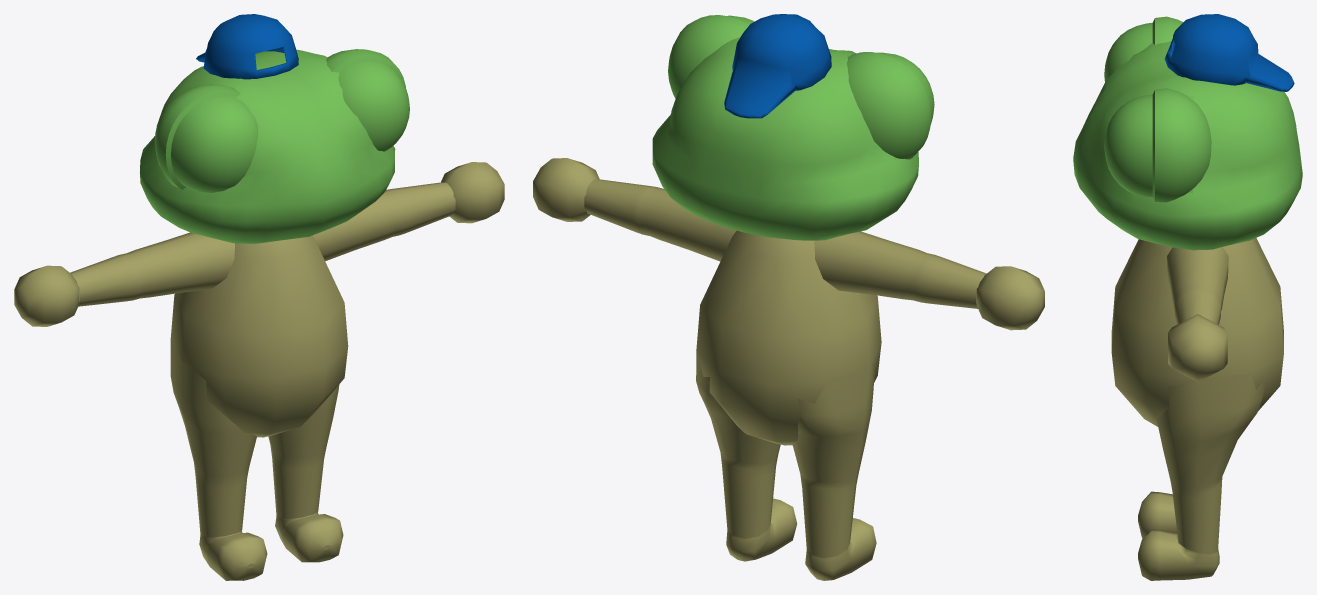
Rendered from Luther_FBX.fbx.
The picture shows the model from 3 angles, left to right: view 1: azimuth 30°, elevation 25°; view 2: azimuth 150°, elevation 25°; view 3: azimuth 270°, elevation 25°; orthographic projection. The views are drawn at different scales.
Parts seen in each view (by area): view 1: polySurface3, body_geo, r_leg_geo, l_leg_geo, r_arm_geo, l_arm_geo, pCube3, r_hand_geo, l_hand_geo; view 2: polySurface3, body_geo, r_leg_geo, r_arm_geo, l_leg_geo, pCube3, l_arm_geo, r_hand_geo, l_hand_geo; view 3: polySurface3, body_geo, l_leg_geo, pCube3, l_arm_geo, l_hand_geo, r_leg_geo.
Part boxes in pixels (<box>): polySurface3: <box>139,49,409,244</box>; body_geo: <box>170,235,348,437</box>; r_leg_geo: <box>170,339,267,580</box>; l_leg_geo: <box>268,385,343,562</box>; r_arm_geo: <box>70,232,234,306</box>; l_arm_geo: <box>312,182,455,261</box>; pCube3: <box>196,14,298,79</box>; r_hand_geo: <box>14,265,79,326</box>; l_hand_geo: <box>441,162,504,223</box>; polySurface3: <box>652,15,934,240</box>; body_geo: <box>696,230,881,445</box>; r_leg_geo: <box>792,364,876,580</box>; r_arm_geo: <box>814,231,986,308</box>; l_leg_geo: <box>696,351,797,561</box>; pCube3: <box>724,14,831,118</box>; l_arm_geo: <box>584,179,736,261</box>; r_hand_geo: <box>976,266,1044,330</box>; l_hand_geo: <box>533,158,599,221</box>; polySurface3: <box>1073,16,1302,250</box>; body_geo: <box>1111,238,1283,426</box>; l_leg_geo: <box>1138,373,1266,580</box>; pCube3: <box>1164,14,1294,91</box>; l_arm_geo: <box>1167,247,1228,324</box>; l_hand_geo: <box>1168,314,1227,381</box>; r_leg_geo: <box>1138,491,1177,538</box>.
Size of the model in its own units: 7.05 by 7.36 by 2.86.
